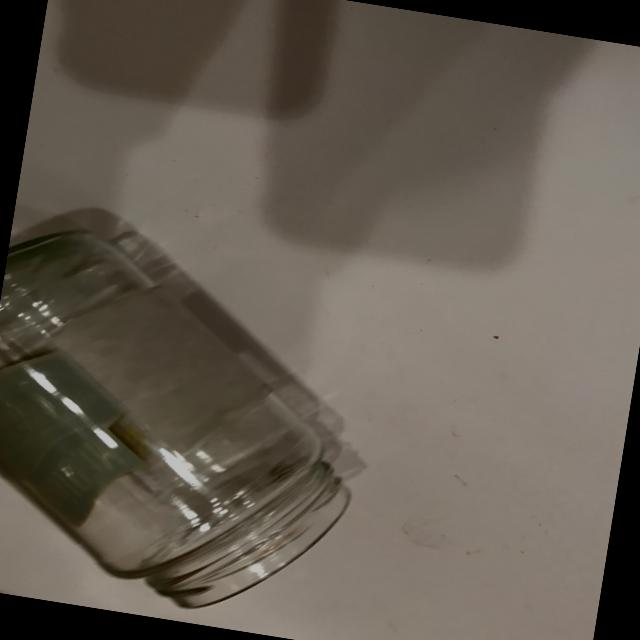Glass: (0, 212, 391, 637)
